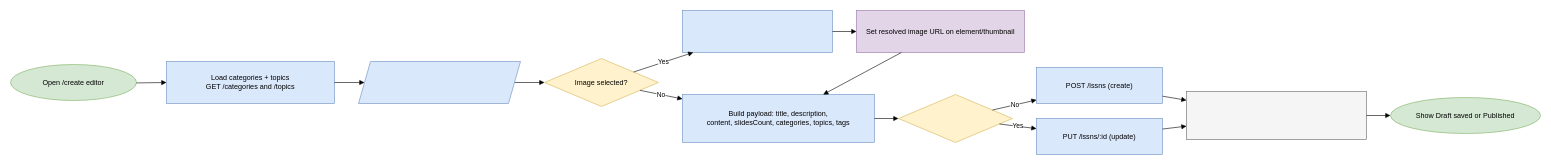
Some shapes in this 1551 by 165 pixel diagram are drawn without their labels. The centre of each missing label's shape, as x and y in pixels:
Existing lssnId?: (x=955, y=118)
LssnsService syncs slides, categories, topics, status draft/published: (x=1276, y=115)
POST /uploads/images store file in uploads/images: (x=757, y=31)
User edits slides/content cardsData + items: (x=439, y=82)
